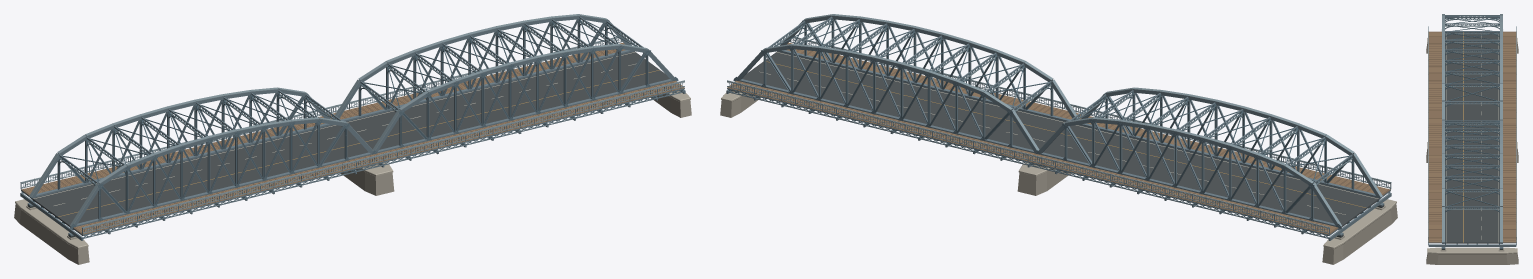
File: waibaidu.glb
3 views of the same model, side by side, from view 1: azimuth 30°, elevation 25°; view 2: azimuth 150°, elevation 25°; view 3: azimuth 270°, elevation 25° (orthographic). The views are drawn at different scales.
Parts seen in each view (by area): view 1: Riveted steel · blue grey, Road surface, Secondary steel, Edge angles · silver grey, Footway boards · oak, Footway boards · weathered, Pier and abutment, Stone edge courses, Gusset plates, Road markings, Centre line; view 2: Riveted steel · blue grey, Road surface, Secondary steel, Edge angles · silver grey, Footway boards · oak, Footway boards · weathered, Pier and abutment, Stone edge courses, Gusset plates, Road markings, Centre line; view 3: Road surface, Footway boards · oak, Secondary steel, Edge angles · silver grey, Footway boards · weathered, Riveted steel · blue grey, Pier and abutment, Stone edge courses, Road markings, Centre line.
Boxes of the visible parts, left/top/right/bottom form: Riveted steel · blue grey: left=20, top=16, right=685, bottom=240; Road surface: left=32, top=51, right=669, bottom=227; Secondary steel: left=21, top=18, right=684, bottom=237; Edge angles · silver grey: left=20, top=14, right=684, bottom=233; Footway boards · oak: left=23, top=42, right=684, bottom=234; Footway boards · weathered: left=21, top=49, right=680, bottom=234; Pier and abutment: left=14, top=94, right=691, bottom=264; Stone edge courses: left=15, top=91, right=690, bottom=249; Gusset plates: left=70, top=46, right=678, bottom=229; Road markings: left=33, top=52, right=636, bottom=205; Centre line: left=58, top=70, right=659, bottom=216; Riveted steel · blue grey: left=726, top=16, right=1391, bottom=240; Road surface: left=742, top=51, right=1379, bottom=227; Secondary steel: left=727, top=18, right=1390, bottom=237; Edge angles · silver grey: left=727, top=14, right=1391, bottom=233; Footway boards · oak: left=727, top=42, right=1388, bottom=234; Footway boards · weathered: left=731, top=49, right=1390, bottom=234; Pier and abutment: left=720, top=94, right=1397, bottom=264; Stone edge courses: left=721, top=91, right=1396, bottom=249; Gusset plates: left=733, top=46, right=1341, bottom=229; Road markings: left=759, top=52, right=1378, bottom=214; Centre line: left=766, top=61, right=1365, bottom=207; Road surface: left=1444, top=32, right=1500, bottom=243; Footway boards · oak: left=1428, top=32, right=1516, bottom=242; Secondary steel: left=1428, top=16, right=1516, bottom=244; Edge angles · silver grey: left=1428, top=14, right=1516, bottom=242; Footway boards · weathered: left=1428, top=31, right=1516, bottom=240; Riveted steel · blue grey: left=1428, top=15, right=1516, bottom=248; Pier and abutment: left=1426, top=43, right=1518, bottom=264; Stone edge courses: left=1427, top=38, right=1517, bottom=254; Road markings: left=1446, top=34, right=1498, bottom=242; Centre line: left=1463, top=32, right=1463, bottom=242.
Bounding box in the file's own units: 107 × 14.62 × 19.35.
